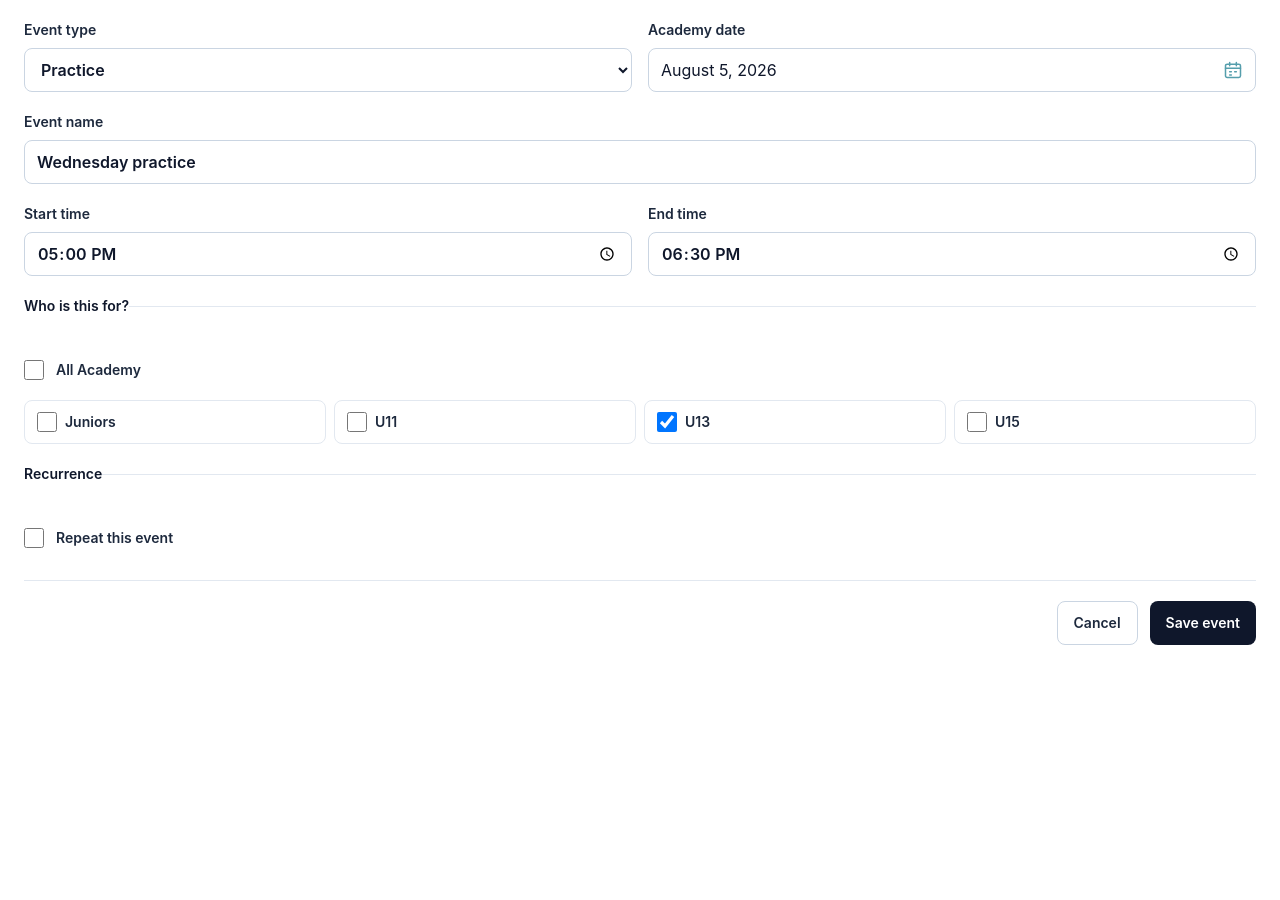
Scenario: EventForm › shows accessible recurrence termination fields and tracks dirty state
Click the checkbox labelled "Repeat this event": [34, 538] box [24, 528, 44, 548]
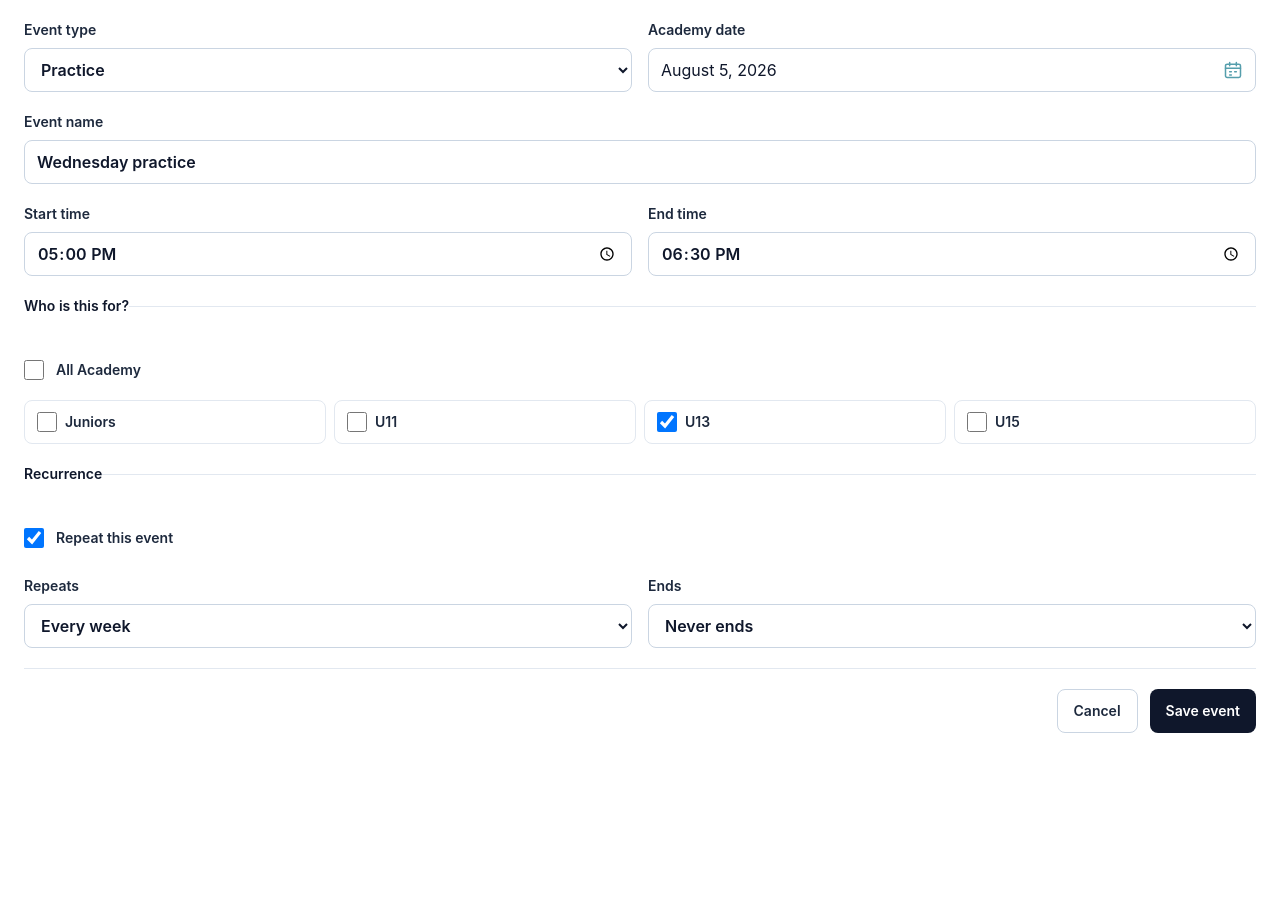
Select "Every year" in the dropdown named "Recurrence frequency": [328, 626] box [24, 604, 632, 648]
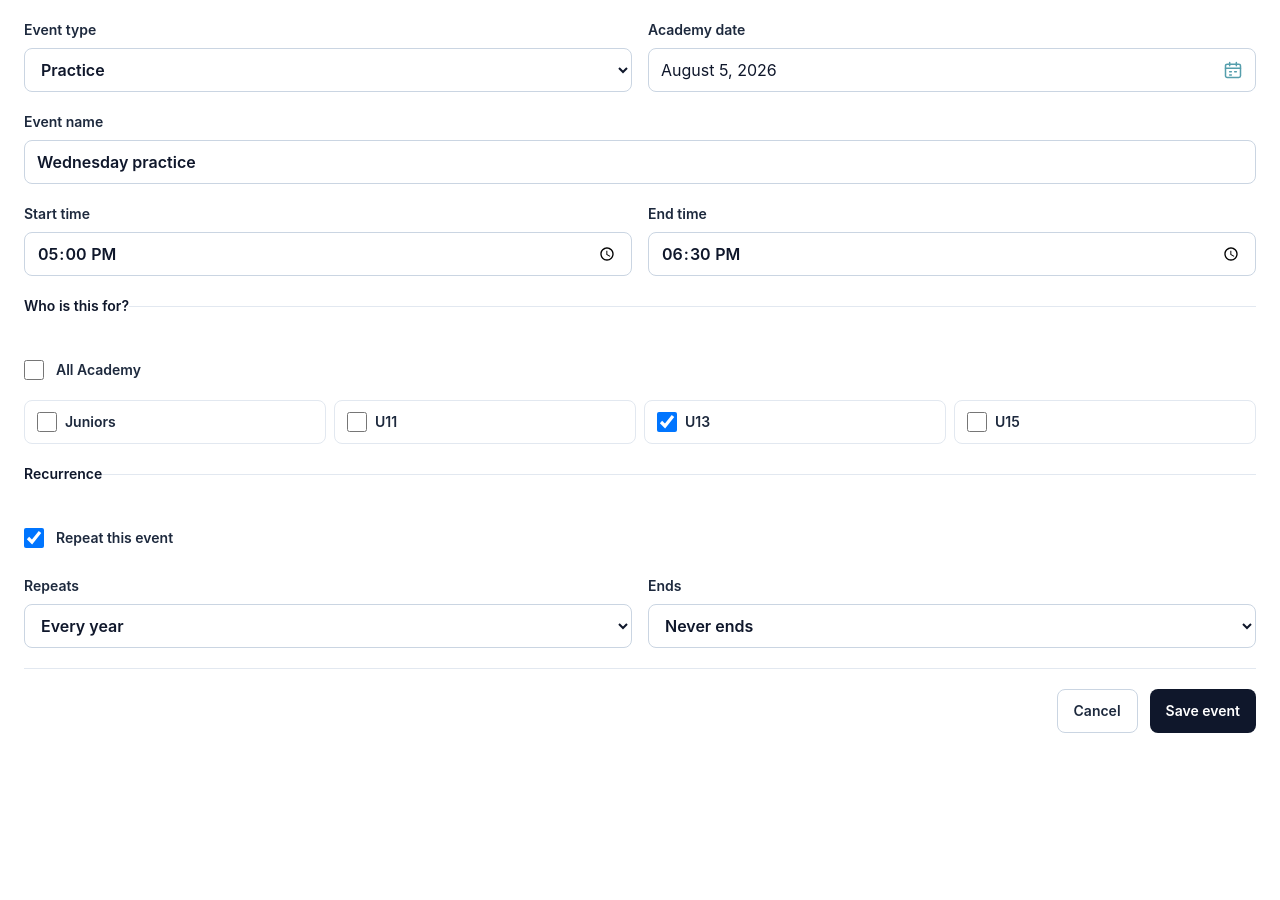
Select "Ends after count" in the dropdown named "Recurrence termination": [952, 626] box [648, 604, 1256, 648]
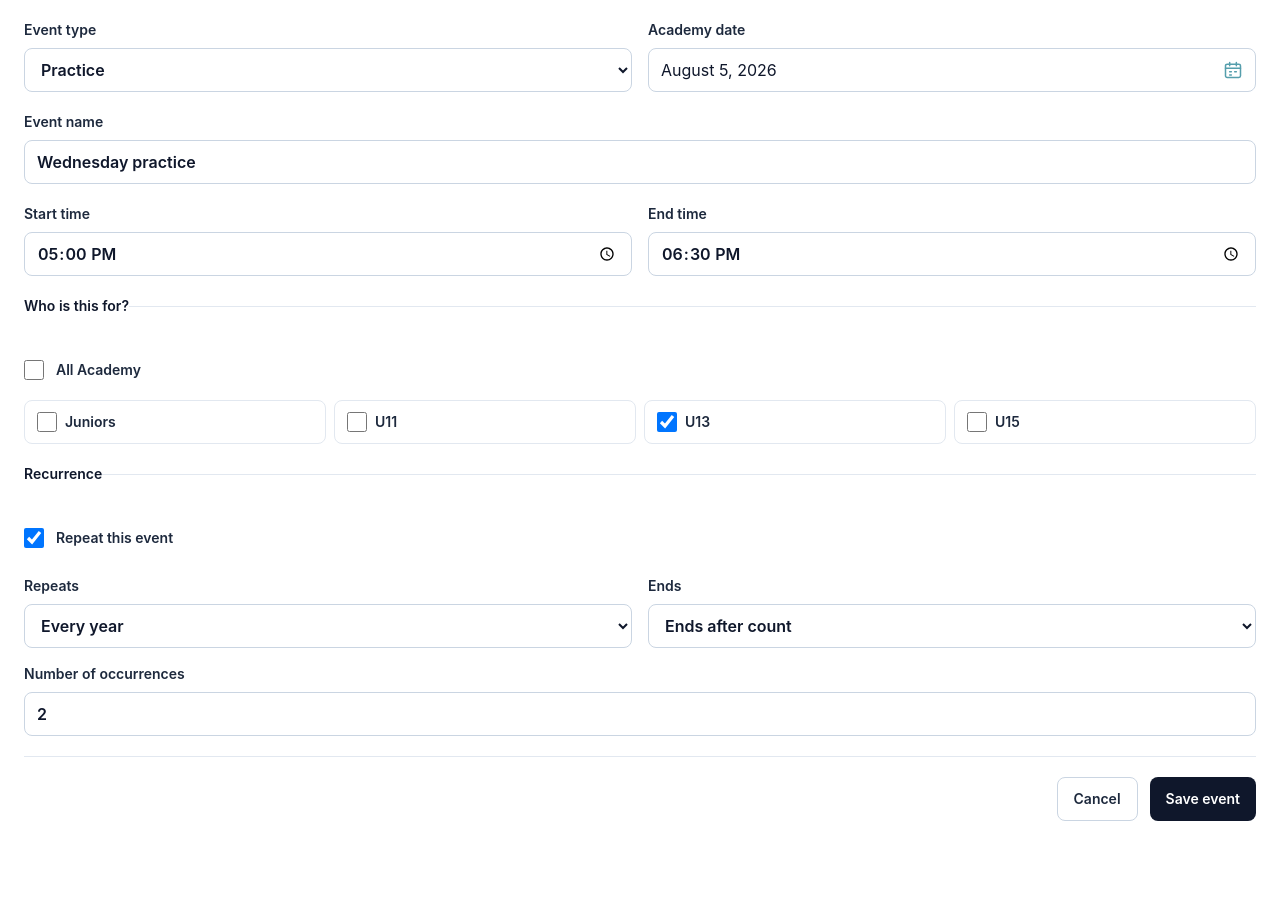
Expected: the number field labelled "Number of occurrences" holds "2", [24, 692, 1256, 736]
